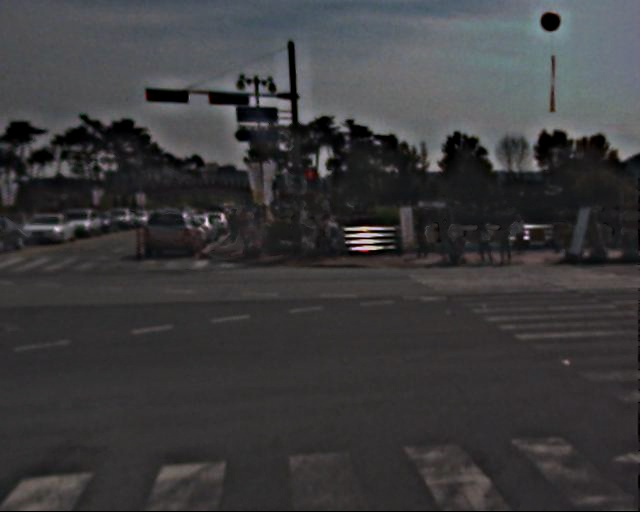person: (411, 219, 531, 265), (226, 211, 277, 244), (323, 215, 342, 262), (294, 214, 313, 260)
